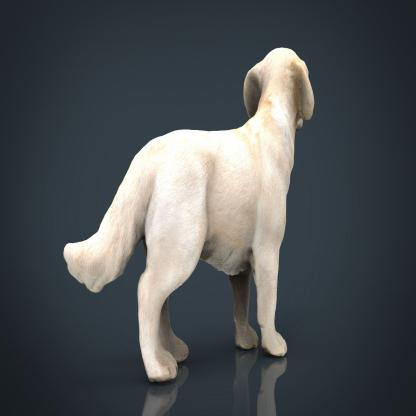dog: (60, 47, 313, 388)
